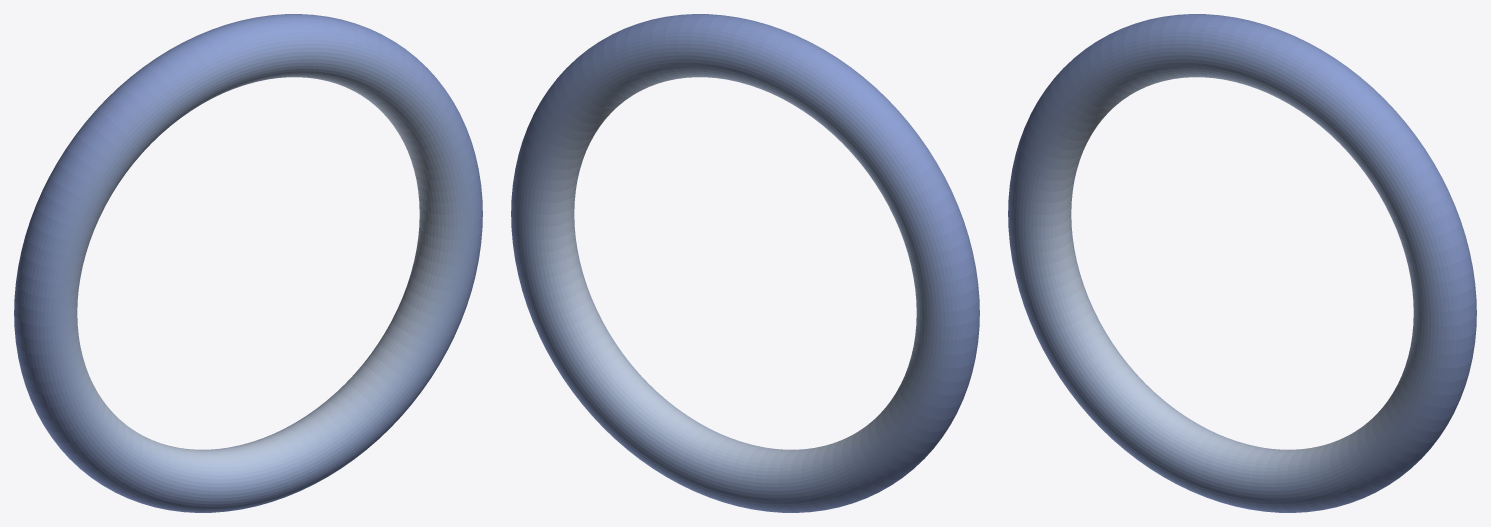
The picture shows the model from 3 angles, left to right: view 1: azimuth 30°, elevation 25°; view 2: azimuth 150°, elevation 25°; view 3: azimuth 330°, elevation 25°; orthographic projection.
Visible parts, largest first — view 1: world; view 2: world; view 3: world.
Part boxes in pixels (x1=…): world: x1=14, y1=14, x2=482, y2=512; world: x1=511, y1=14, x2=979, y2=512; world: x1=1008, y1=14, x2=1476, y2=512.
Size of the model in its own units: 28 by 28 by 3.33.
